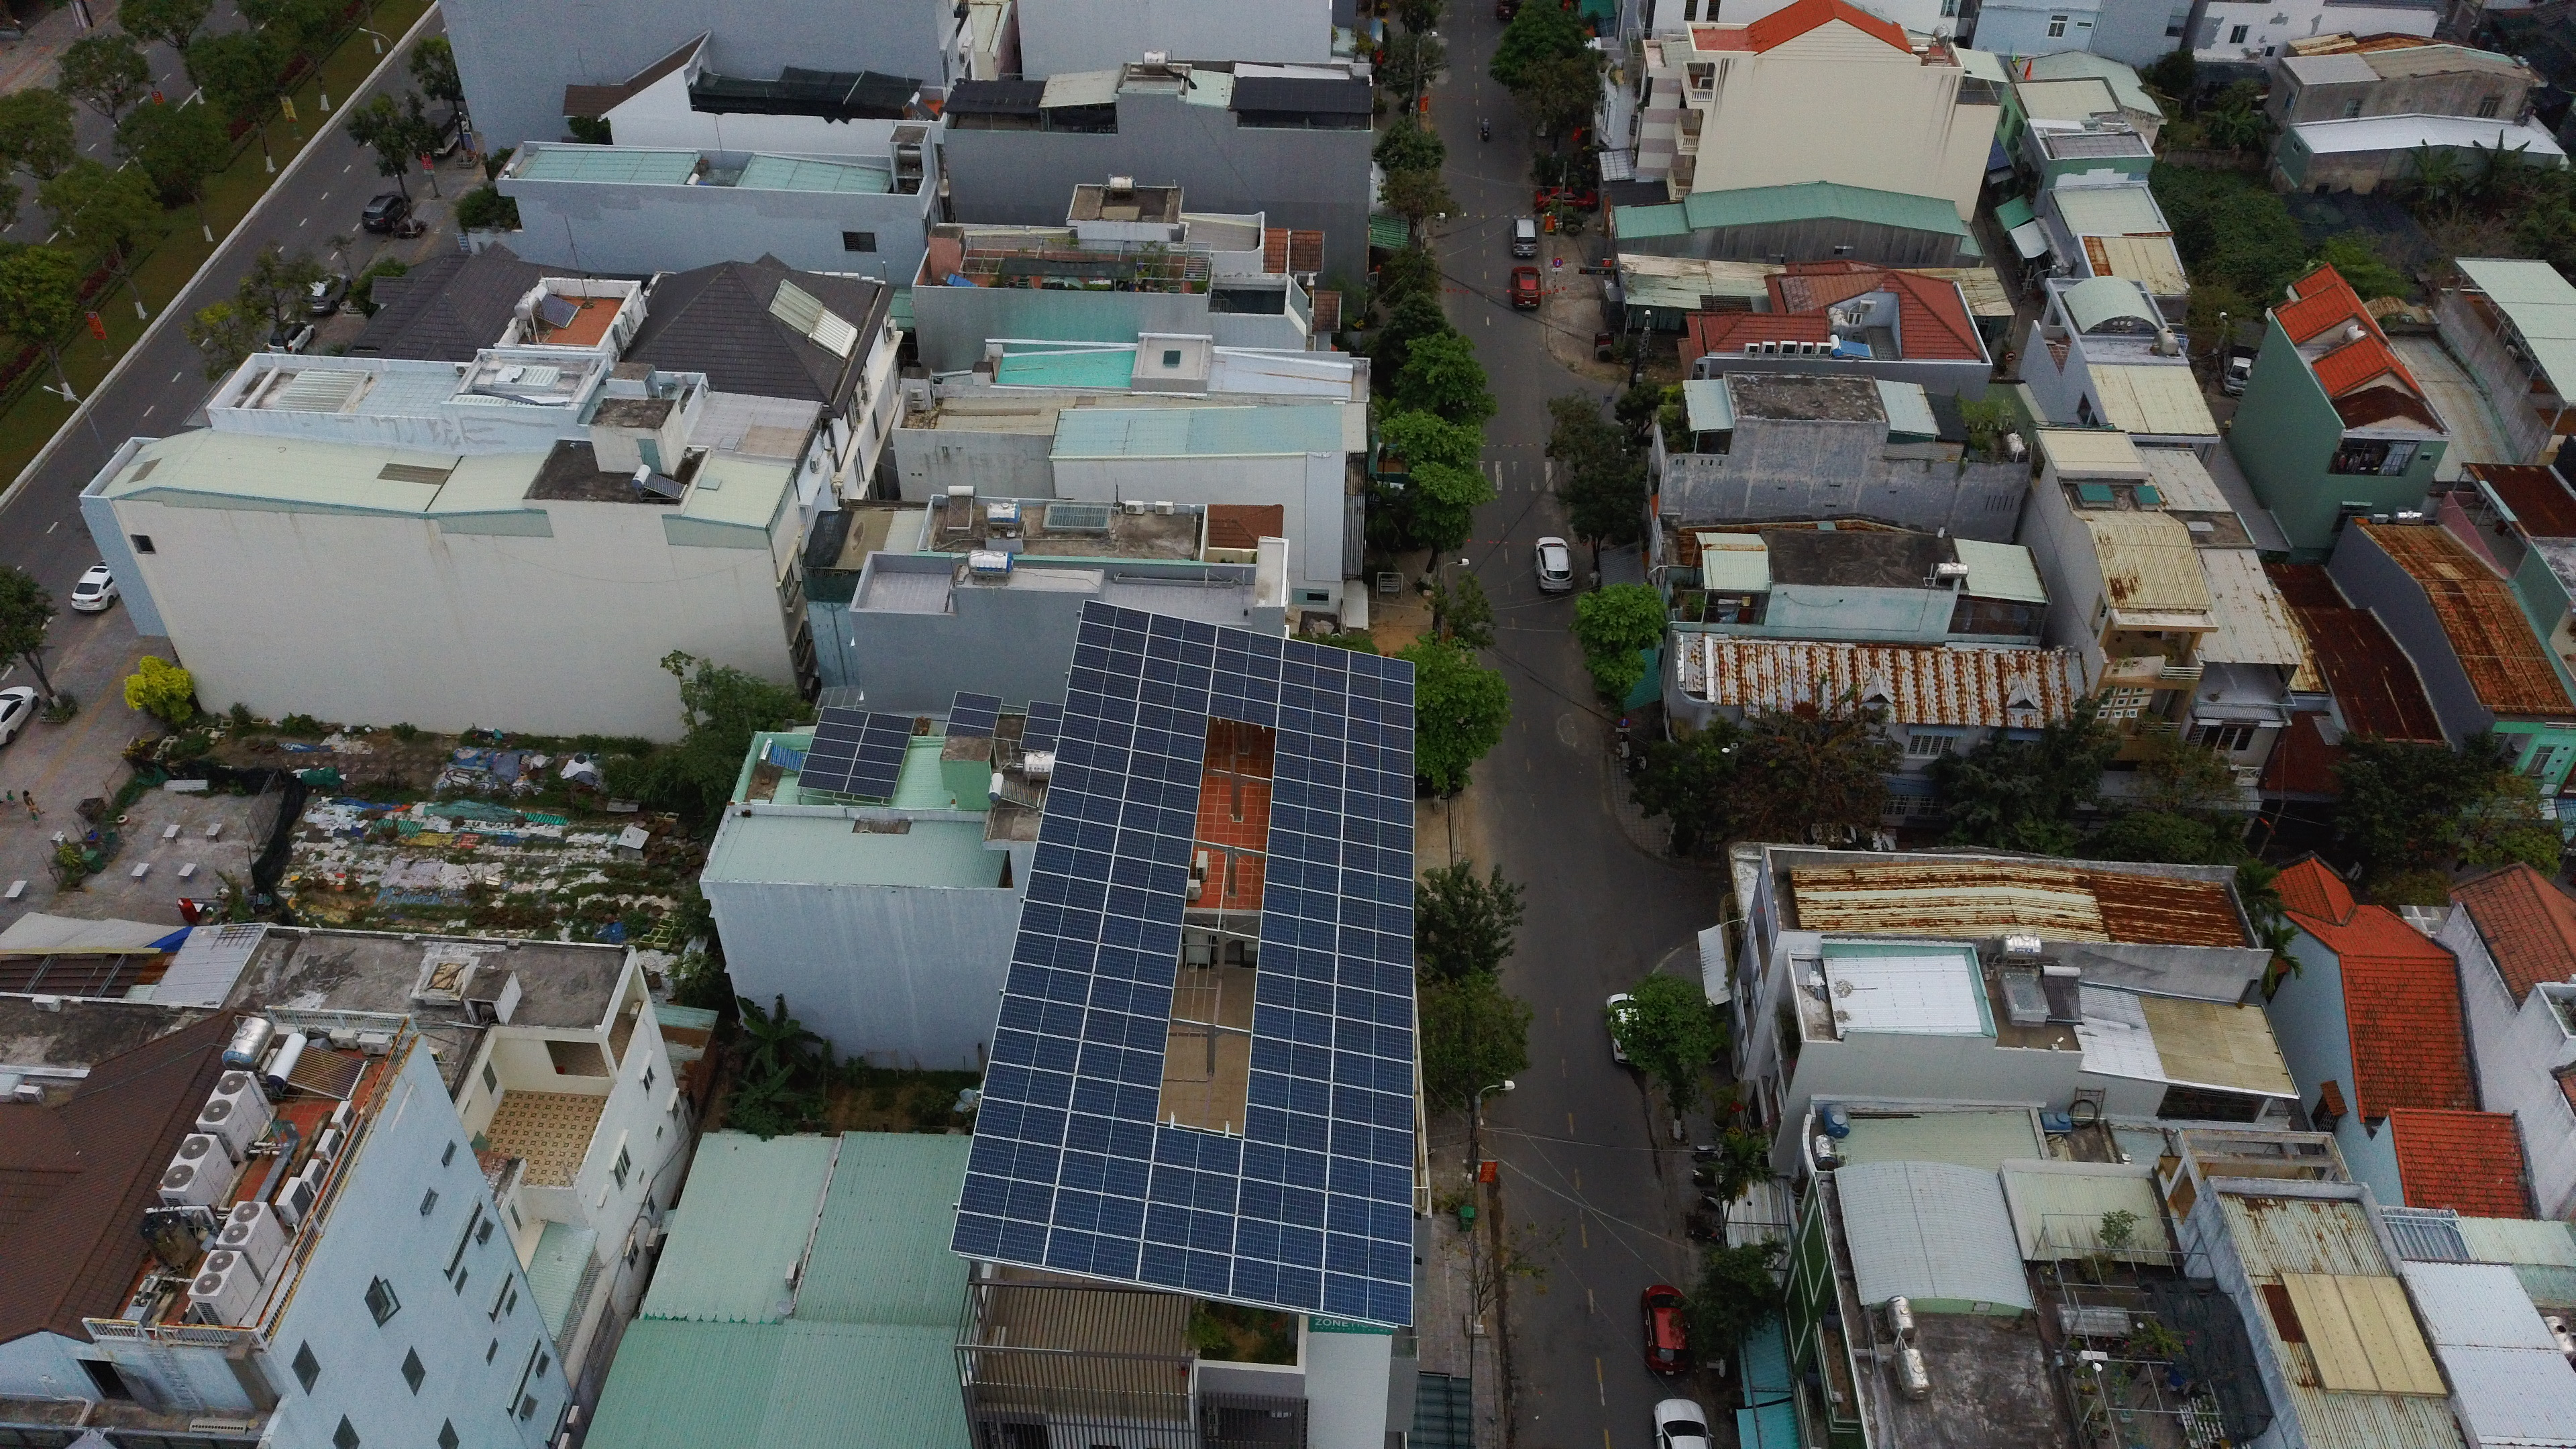solar: (1040, 1226, 1141, 1283), (1049, 1185, 1148, 1240), (1054, 1146, 1152, 1201), (948, 1214, 1051, 1265), (971, 1095, 1070, 1148), (966, 1132, 1065, 1185), (957, 1173, 1056, 1226), (1150, 1125, 1246, 1180), (1146, 1162, 1242, 1217), (1139, 1200, 1235, 1254), (1136, 1240, 1231, 1295), (1322, 1228, 1414, 1284), (1322, 1269, 1414, 1325), (1237, 1139, 1330, 1194), (1233, 1177, 1327, 1231), (1323, 1189, 1414, 1246), (1231, 1215, 1325, 1269), (1230, 1254, 1323, 1307), (1062, 1111, 1155, 1162), (982, 1060, 1076, 1109), (1327, 1152, 1414, 1205), (1242, 1102, 1330, 1154), (994, 993, 1088, 1040), (987, 1026, 1081, 1074), (1074, 1040, 1166, 1088), (1067, 1076, 1159, 1123), (1247, 1033, 1334, 1083), (1246, 1067, 1332, 1116), (1329, 1118, 1415, 1168), (1001, 961, 1092, 1007), (1249, 1001, 1336, 1049), (1093, 911, 1182, 957), (1092, 943, 1180, 989), (1085, 975, 1173, 1021), (1079, 1008, 1168, 1054), (1334, 982, 1415, 1031), (1329, 1081, 1410, 1131), (1330, 1016, 1412, 1063), (1330, 1049, 1412, 1097), (1017, 899, 1104, 943), (1012, 931, 1099, 975), (1102, 883, 1189, 925), (1031, 839, 1115, 883), (1024, 869, 1108, 913), (1035, 812, 1120, 855), (1106, 855, 1191, 897), (1254, 971, 1336, 1016), (1334, 955, 1417, 998), (1256, 941, 1338, 984), (1261, 855, 1341, 897), (1116, 800, 1198, 840), (1113, 826, 1194, 867), (1265, 826, 1343, 869), (1260, 883, 1338, 925), (1258, 911, 1336, 954), (1336, 895, 1414, 938), (1338, 924, 1415, 966), (1042, 787, 1123, 826), (1341, 789, 1415, 832), (1339, 816, 1414, 858), (1339, 840, 1414, 883), (1338, 867, 1412, 909), (1047, 761, 1127, 800), (1269, 775, 1346, 814), (1267, 801, 1345, 840), (1123, 773, 1198, 814), (1063, 688, 1139, 727), (1054, 736, 1131, 775), (1207, 669, 1283, 708), (1205, 692, 1281, 731), (1127, 748, 1201, 787), (1208, 646, 1286, 683), (1060, 713, 1136, 750), (1274, 727, 1346, 766), (1272, 750, 1345, 789), (1345, 715, 1414, 755), (1345, 738, 1414, 778), (1343, 764, 1412, 805), (1077, 598, 1152, 635), (1074, 621, 1148, 658), (1143, 633, 1217, 671), (1139, 656, 1214, 694), (1136, 679, 1210, 717), (1070, 640, 1143, 678), (1132, 702, 1207, 738), (1131, 727, 1205, 763), (1281, 637, 1352, 674), (1277, 656, 1348, 694), (1065, 665, 1138, 701), (1146, 612, 1219, 648), (1277, 679, 1346, 717), (1346, 671, 1415, 708), (1214, 623, 1284, 658), (1345, 648, 1415, 683), (1345, 692, 1415, 727), (1274, 706, 1348, 740), (814, 718, 867, 743), (860, 725, 913, 750), (853, 741, 906, 766), (952, 690, 1005, 715), (948, 704, 1001, 729), (800, 754, 855, 777), (796, 771, 851, 794), (842, 775, 897, 798), (817, 706, 870, 729), (862, 711, 915, 734), (849, 759, 902, 782), (809, 738, 860, 761), (1021, 715, 1062, 740), (943, 722, 993, 741), (1026, 697, 1065, 722), (1019, 731, 1058, 755)
